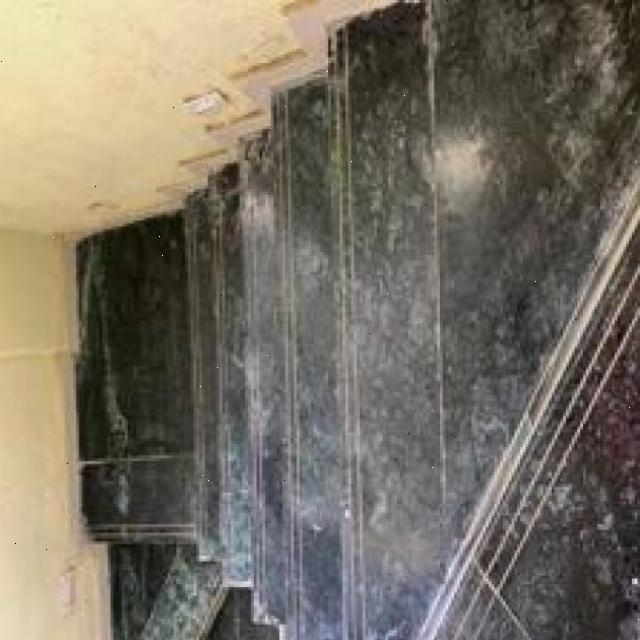stair: (274, 46, 512, 419)
